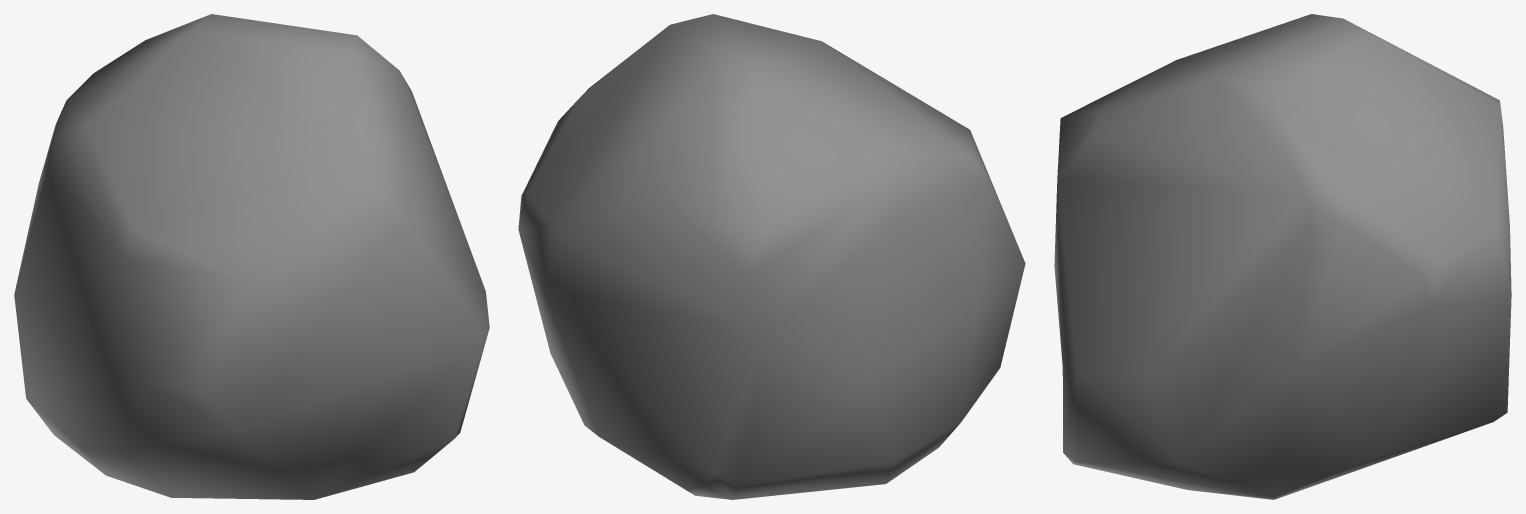
3 views of the same model, side by side, from view 1: azimuth 30°, elevation 25°; view 2: azimuth 150°, elevation 25°; view 3: azimuth 270°, elevation 25° (orthographic). The views are drawn at different scales.
Parts seen in each view (by area): view 1: submesh_0; view 2: submesh_0; view 3: submesh_0.
Part boxes in pixels (<box>): submesh_0: <box>14,14,489,499</box>; submesh_0: <box>518,14,1025,499</box>; submesh_0: <box>1054,14,1511,499</box>.
Size of the model in its own units: 0.7282 by 0.7175 by 0.7385.
Materials: 1 (1 with a texture image).
